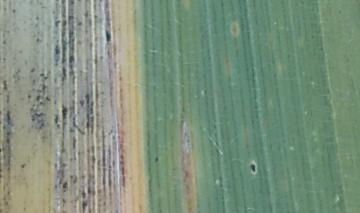tarspot: (60, 102, 69, 119), (104, 27, 112, 43), (248, 162, 257, 173), (61, 179, 69, 189), (152, 154, 160, 163), (68, 53, 75, 63)
